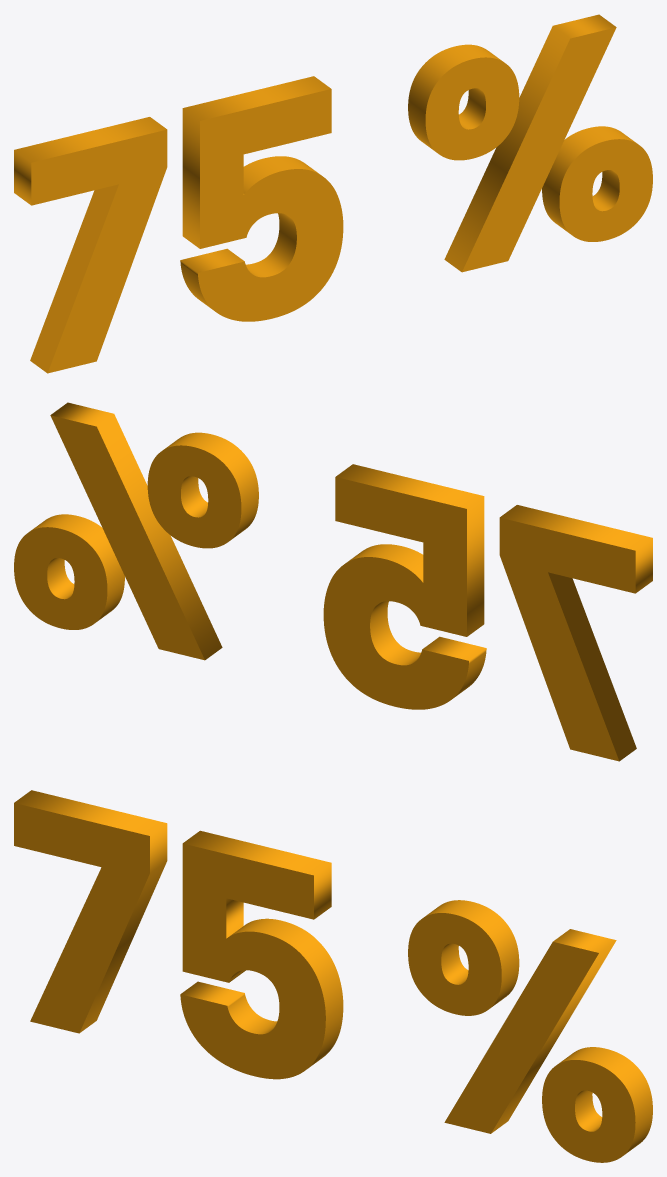
File: Bina1yuzde.gltf
The picture shows the model from 3 angles, top to bottom: view 1: azimuth 30°, elevation 25°; view 2: azimuth 150°, elevation 25°; view 3: azimuth 330°, elevation 25°; orthographic projection.
Parts seen in each view (by area): view 1: simsekyazi.003; view 2: simsekyazi.003; view 3: simsekyazi.003.
Part boxes in pixels (x1,y1,x2,y2): simsekyazi.003: [14, 14, 652, 373]; simsekyazi.003: [14, 402, 652, 761]; simsekyazi.003: [14, 790, 652, 1162].
Bounding box in the file's own units: 0.0934 × 0.0314 × 0.00455.
